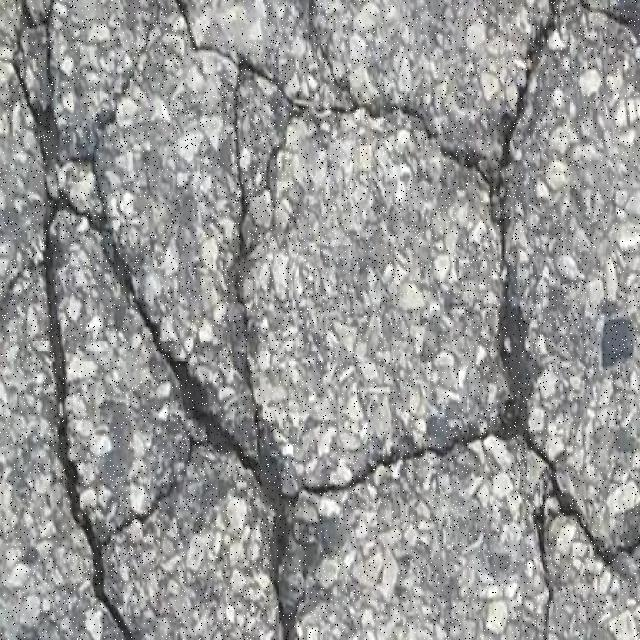Crack: (42, 0, 640, 639), (10, 0, 70, 164), (0, 280, 29, 319)
